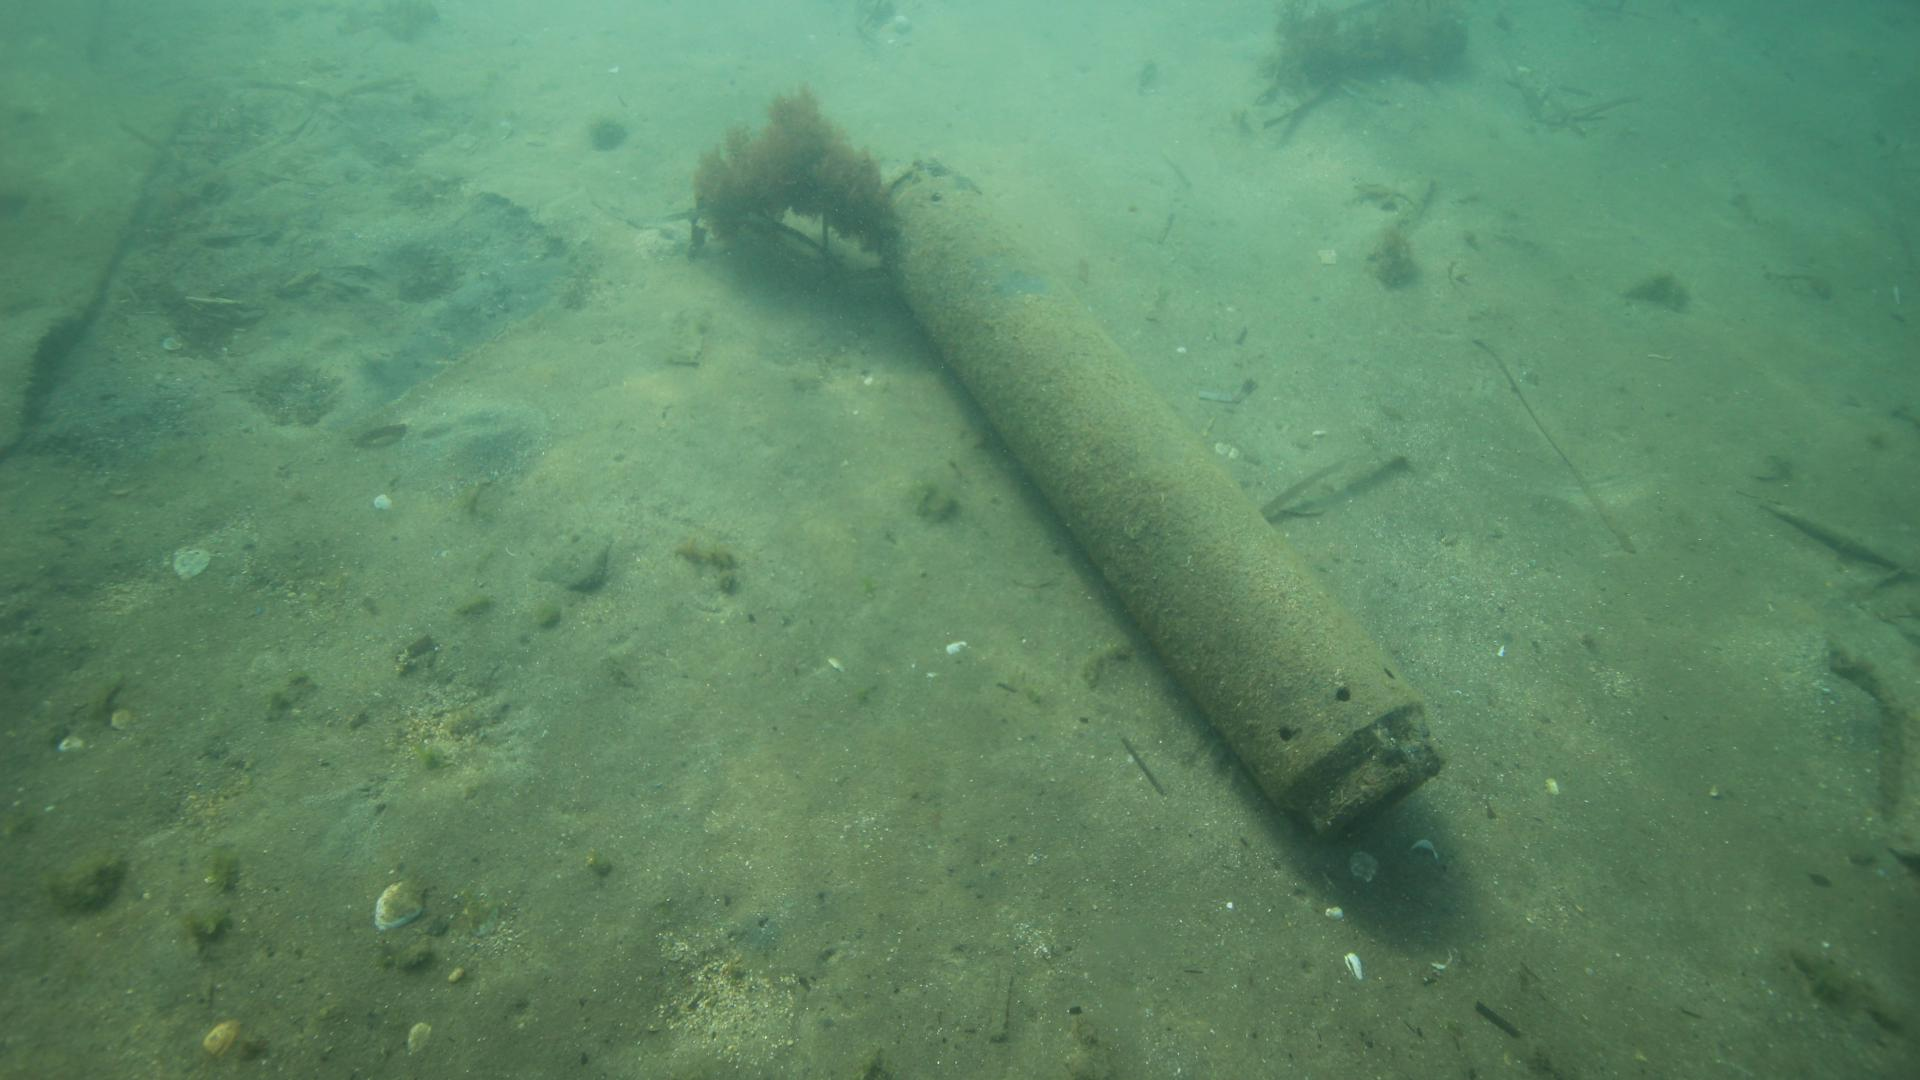eel fish trap: (880, 164, 1439, 840)
